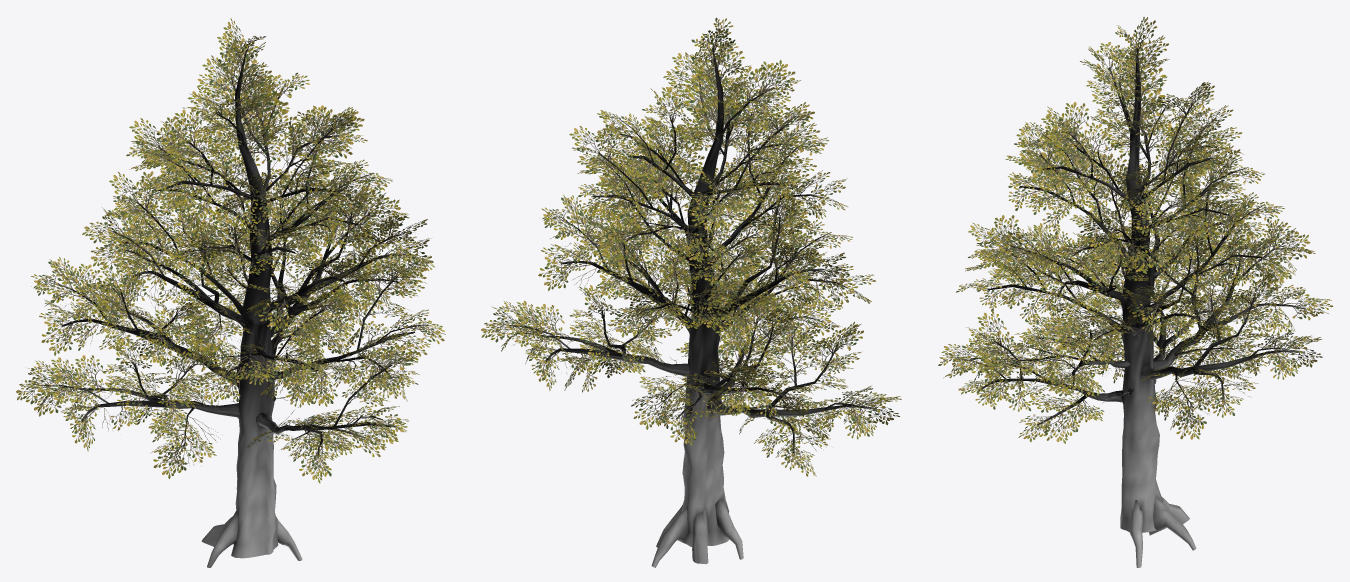
Rendered from PW_Tree_Oak_01.fbx.
3 renders of one model, left to right at view 1: azimuth 30°, elevation 25°; view 2: azimuth 150°, elevation 25°; view 3: azimuth 270°, elevation 25°, orthographic. The views are drawn at different scales.
Parts seen in each view (by area): view 1: PW_Tree_Oak_01_LOD0; view 2: PW_Tree_Oak_01_LOD0; view 3: PW_Tree_Oak_01_LOD0.
Part boxes in pixels (x1=…): PW_Tree_Oak_01_LOD0: x1=16, y1=18, x2=445, y2=567; PW_Tree_Oak_01_LOD0: x1=481, y1=17, x2=901, y2=567; PW_Tree_Oak_01_LOD0: x1=938, y1=17, x2=1333, y2=567.
Size of what is drawn, in the model's own units: 1271 by 1734 by 1212.
